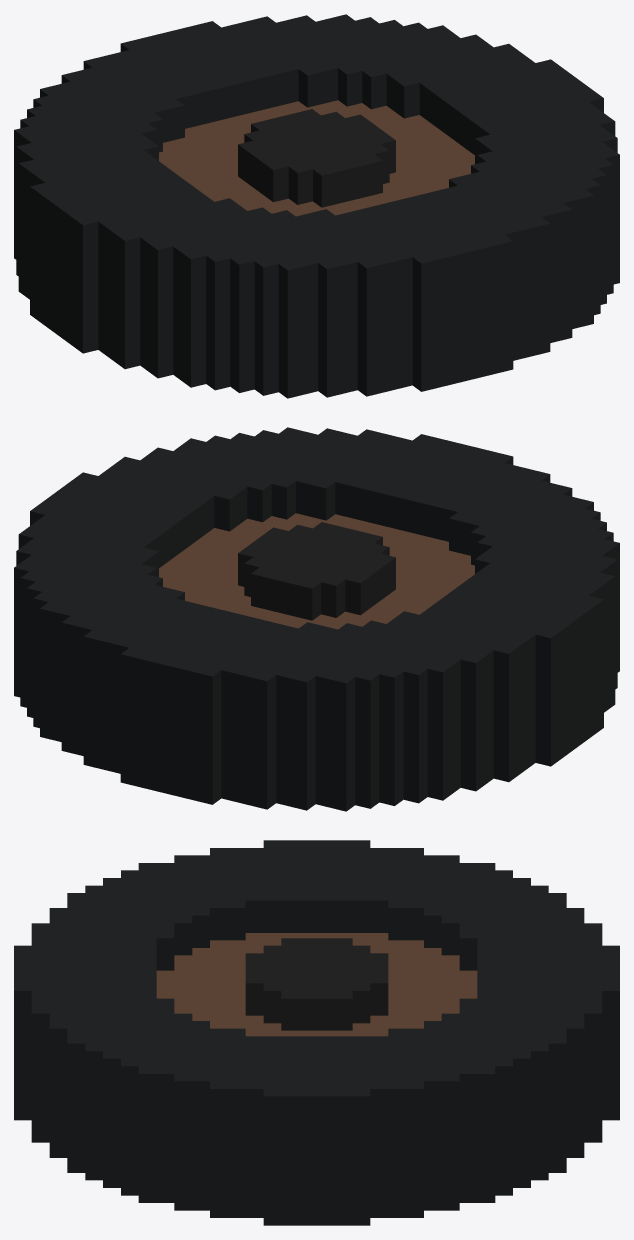
The model's file is jackknifed_lorry_cab_loose_wheel.glb.
3 renders of one model, top to bottom at view 1: azimuth 30°, elevation 25°; view 2: azimuth 150°, elevation 25°; view 3: azimuth 270°, elevation 25°, orthographic.
Visible parts, largest first — view 1: body:compound; view 2: body:compound; view 3: body:compound.
Part boxes in pixels (x1,y1,x2,y2): body:compound: (14, 14, 619, 398); body:compound: (14, 427, 619, 811); body:compound: (14, 840, 619, 1225).
Bounding box in the file's own units: 1.06 × 0.25 × 1.06.
